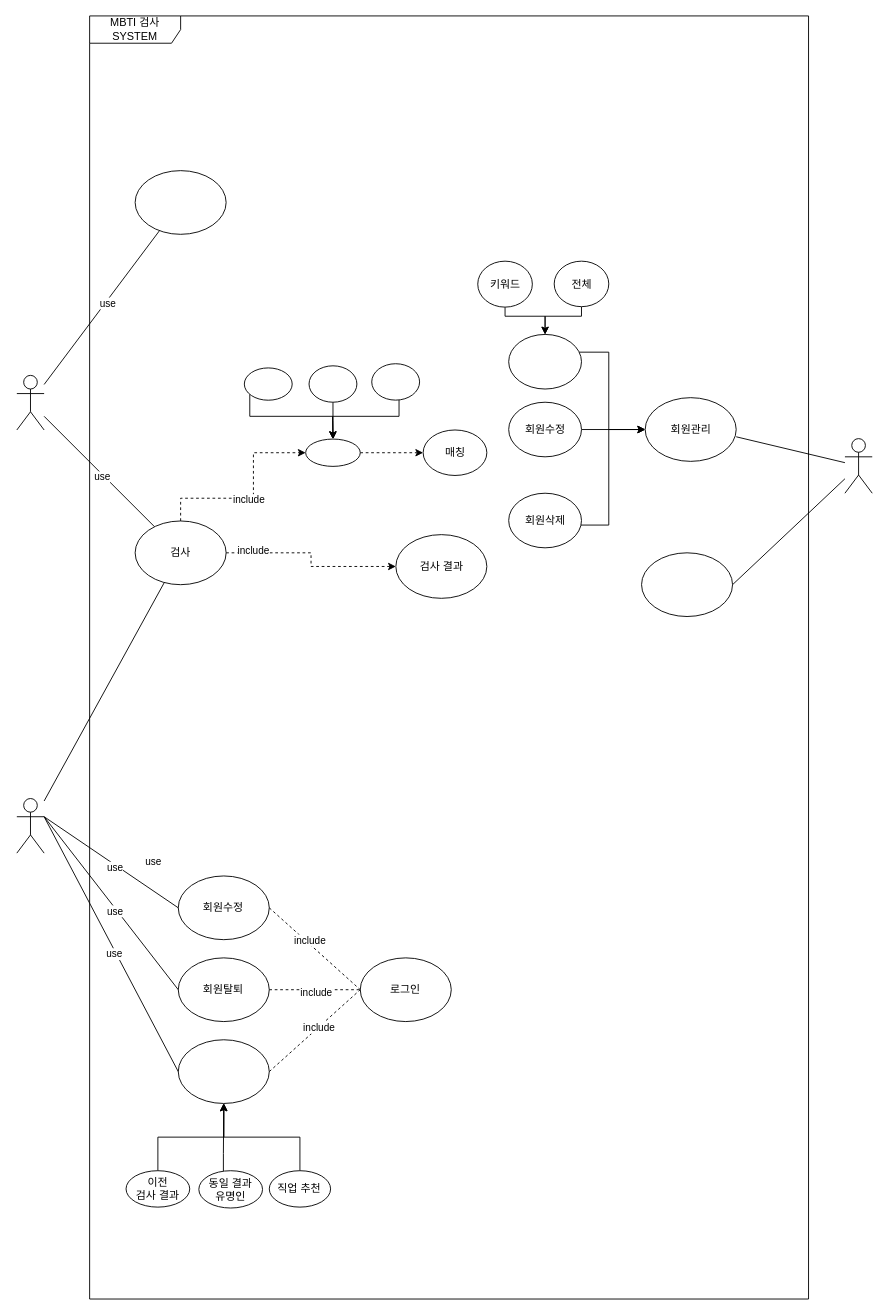
The diagram is 889 pixels wide and 1315 high, and some of its shapes have lost their labels. Each missing label, with the box of its shape:
관리자: (844, 438, 872, 493)
모니터링: (641, 552, 733, 617)
비회원: (16, 374, 44, 430)
유료결제: (305, 438, 360, 466)
회원: (16, 798, 44, 853)
회원가입: (134, 170, 226, 234)
회원정보조회: (177, 1039, 269, 1103)
회원조회: (508, 334, 581, 389)
